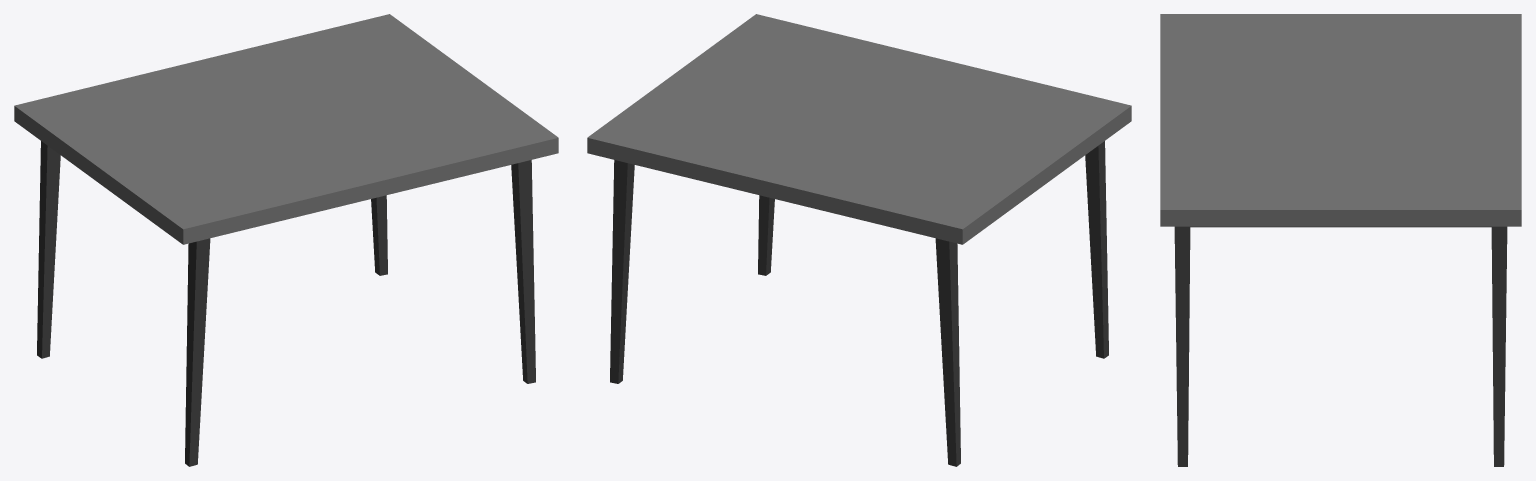
The model's file is kitchen_table_018.glb.
The picture shows the model from 3 angles, left to right: view 1: azimuth 30°, elevation 25°; view 2: azimuth 150°, elevation 25°; view 3: azimuth 270°, elevation 25°; orthographic projection. The views are drawn at different scales.
Parts seen in each view (by area): view 1: kitchen_table_018; view 2: kitchen_table_018; view 3: kitchen_table_018.
Boxes of the visible parts, <box> form: kitchen_table_018: <box>14,14,558,466</box>; kitchen_table_018: <box>587,14,1131,466</box>; kitchen_table_018: <box>1160,14,1521,466</box>.
Size of the model in its own units: 1.1 by 0.6951 by 0.8612.
Materials: 1 (1 with a texture image).
